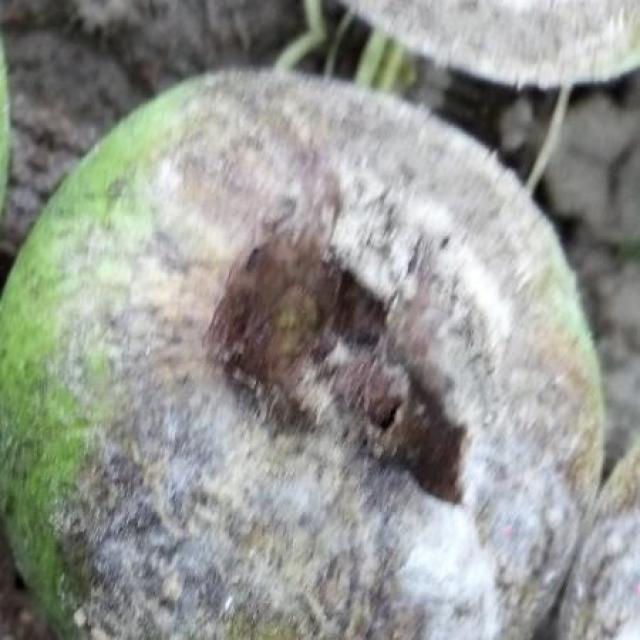Phytopthora: (0, 74, 602, 640)
